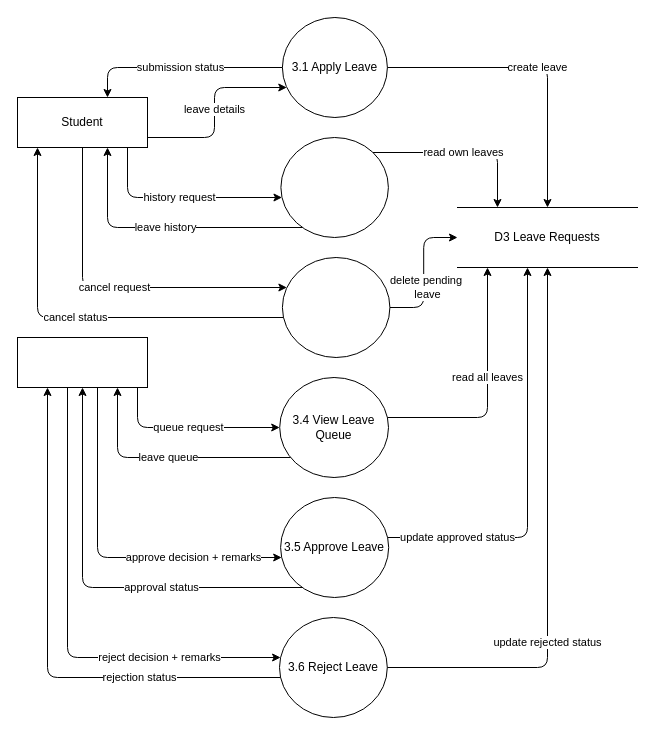
The diagram is 655 pixels wide and 735 high, and some of its shapes have lost their labels. Here are the shapes that lost their labels. From the top down, the box of each, then its label:
(280, 136, 388, 238): 3.2 View My Leaves
(281, 256, 390, 358): 3.3 Cancel Pending Leave
(16, 336, 148, 388): Admin
